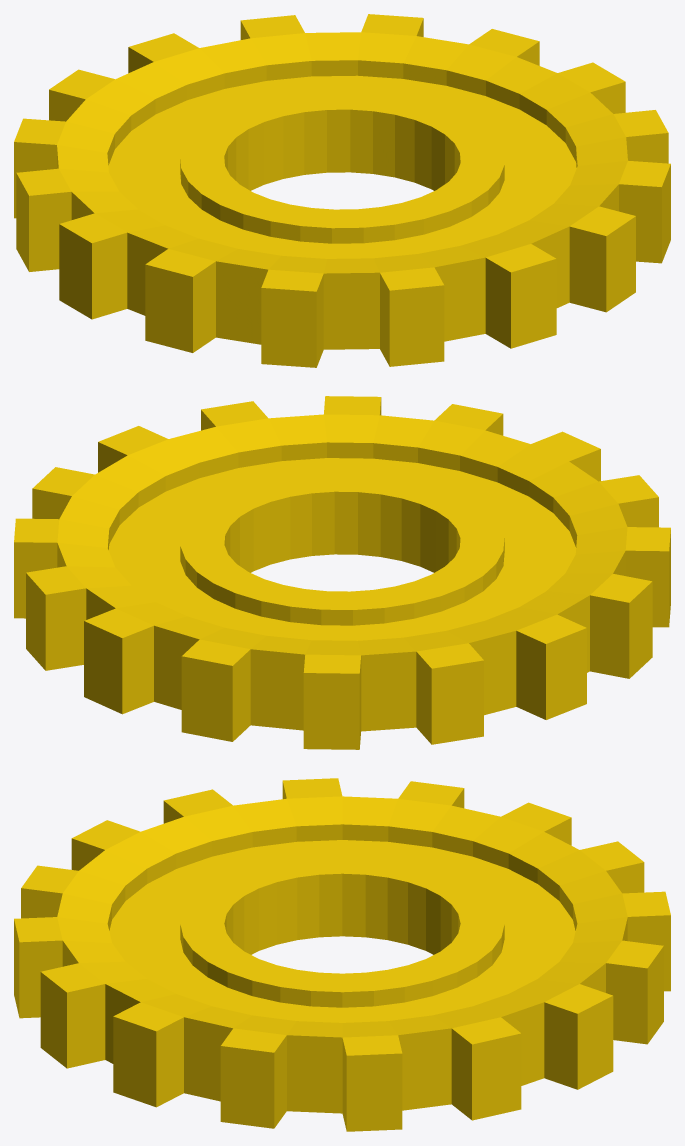
Rendered from gearC.fbx.
3 views of the same model, one above another, from view 1: azimuth 30°, elevation 25°; view 2: azimuth 150°, elevation 25°; view 3: azimuth 270°, elevation 25° (orthographic).
Parts seen in each view (by area): view 1: Cylinder; view 2: Cylinder; view 3: Cylinder.
Boxes of the visible parts, x1,y1,x2,y2 form: Cylinder: (14,14,670,367); Cylinder: (14,396,670,749); Cylinder: (14,778,670,1131).
Size of the model in its own units: 230 by 29.4 by 230.
